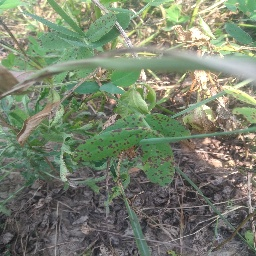GroundNut_Leaf: (71, 127, 138, 165), (139, 141, 178, 190), (145, 110, 192, 139), (85, 12, 116, 44), (43, 31, 80, 56), (223, 20, 256, 48), (64, 79, 101, 95), (109, 70, 139, 87), (3, 52, 24, 68), (9, 110, 25, 128)
